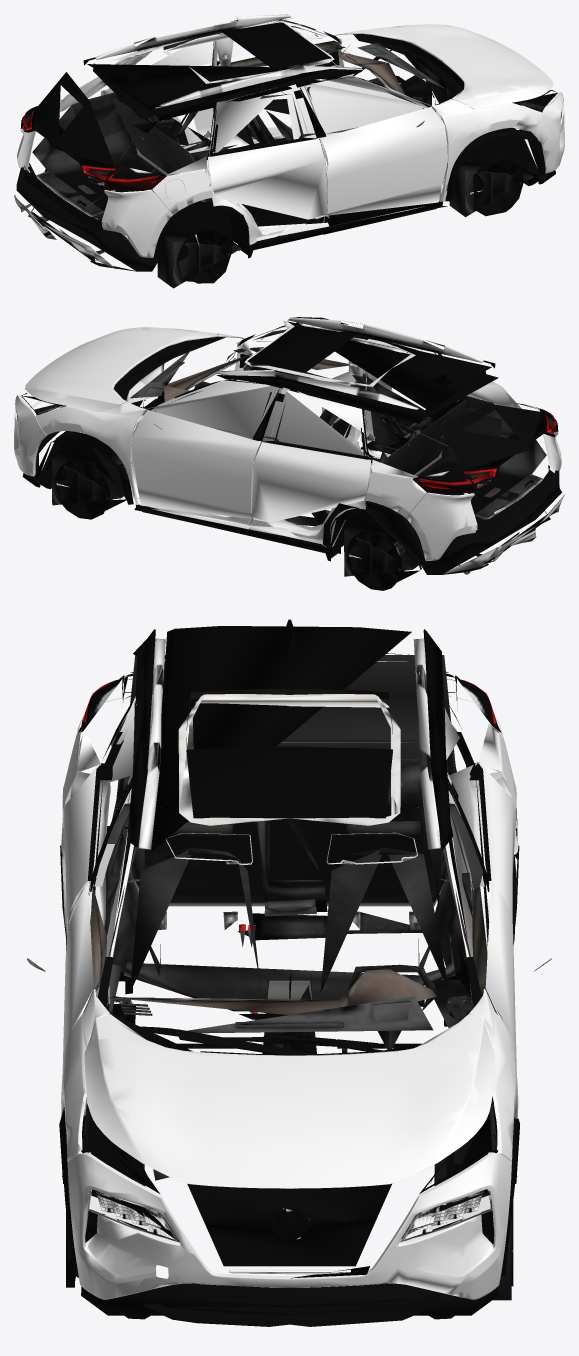
File: nissan_xtrail_2023.glb
3 renders of one model, top to bottom at view 1: azimuth 30°, elevation 25°; view 2: azimuth 150°, elevation 25°; view 3: azimuth 270°, elevation 25°, orthographic. The views are drawn at different scales.
Parts seen in each view (by area): view 1: polySurface1768_Mesh_84_sliver2_Chrome_0, xt:leather_instead_houpai_Mesh_21_inner_leather_xt:inner_lea; view 2: polySurface1768_Mesh_84_sliver2_Chrome_0, xt:leather_instead_houpai_Mesh_21_inner_leather_xt:inner_lea; view 3: polySurface1768_Mesh_84_sliver2_Chrome_0, xt:leather_instead_houpai_Mesh_21_inner_leather_xt:inner_lea.
Boxes of the visible parts, box(x1,y1,x2,y2) form: polySurface1768_Mesh_84_sliver2_Chrome_0: box(14, 14, 564, 288); xt:leather_instead_houpai_Mesh_21_inner_leather_xt:inner_lea: box(113, 51, 339, 151); polySurface1768_Mesh_84_sliver2_Chrome_0: box(14, 317, 564, 590); xt:leather_instead_houpai_Mesh_21_inner_leather_xt:inner_lea: box(239, 353, 431, 463); polySurface1768_Mesh_84_sliver2_Chrome_0: box(27, 619, 551, 1326); xt:leather_instead_houpai_Mesh_21_inner_leather_xt:inner_lea: box(109, 746, 454, 1011).
Bounding box in the file's own units: 4.7 × 1.64 × 2.13.
1 material, 1 textured.
